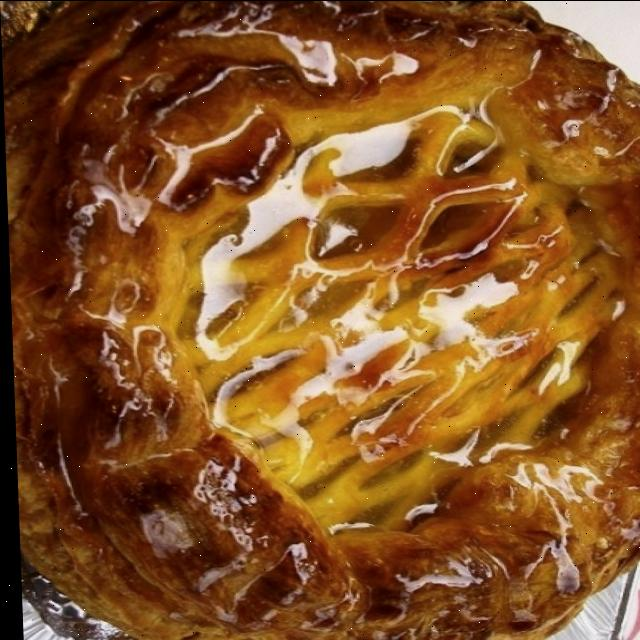炸货点心: (21, 9, 640, 629)
蛋糕甜品: (21, 9, 640, 629)
